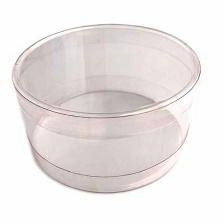plastic_box: (5, 16, 206, 199)
